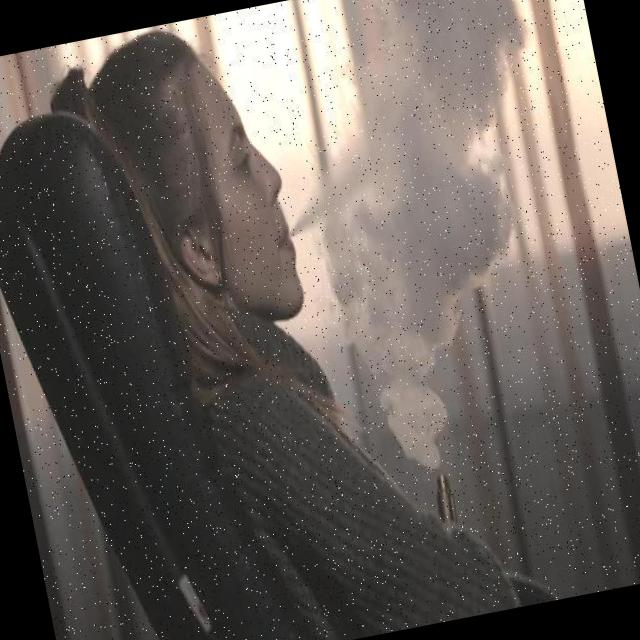Smoke: (287, 0, 526, 473)
